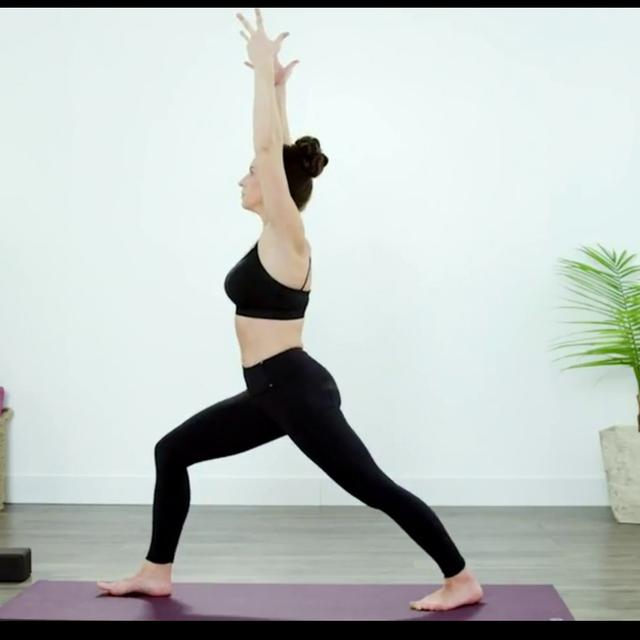Warrior_I: (92, 7, 485, 613)
